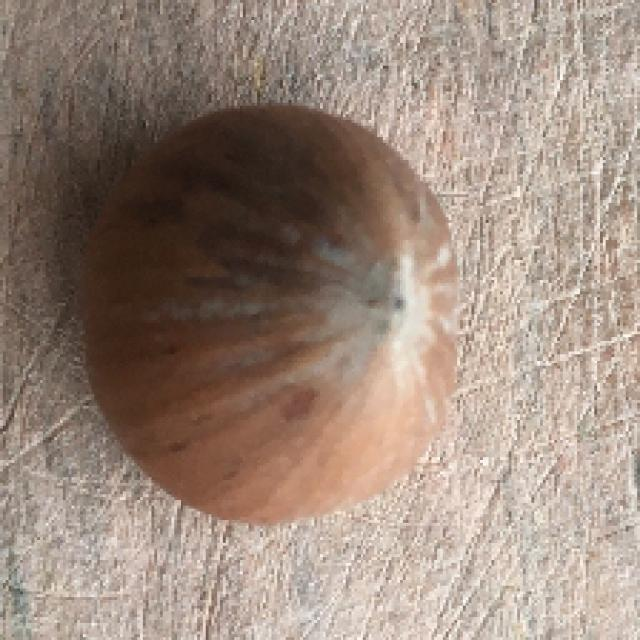qualityHazelnut: (75, 97, 463, 536)
